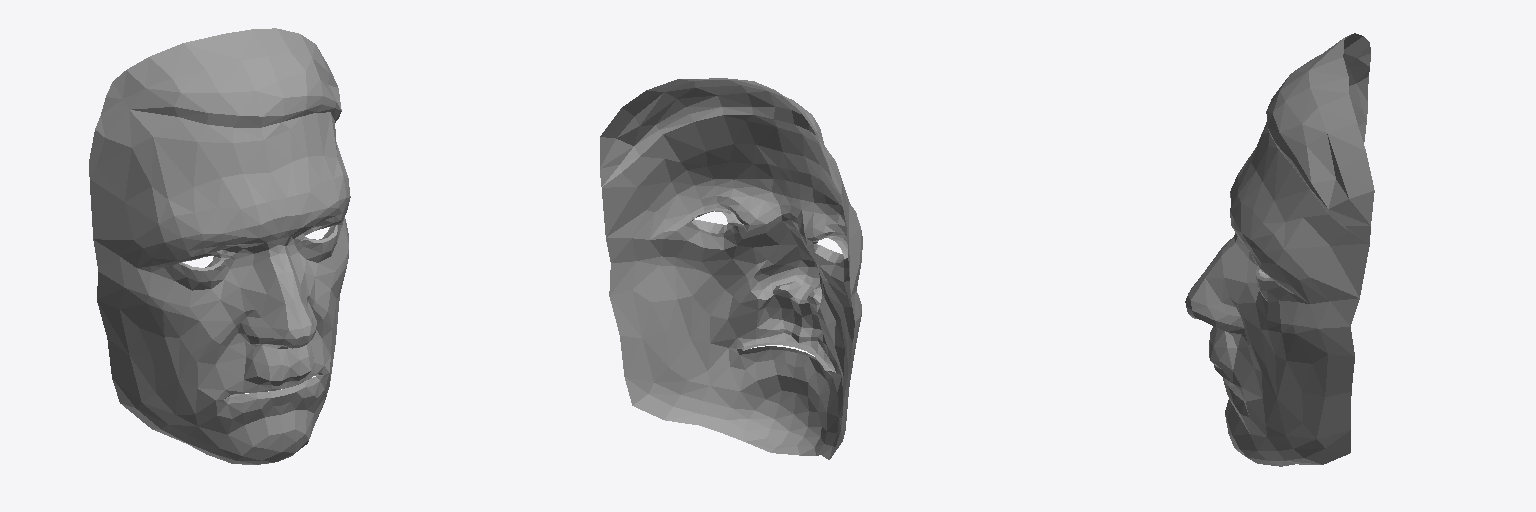
Rendered from hitlerProto.obj.
3 renders of one model, left to right at view 1: azimuth 30°, elevation 25°; view 2: azimuth 150°, elevation 25°; view 3: azimuth 270°, elevation 25°, orthographic.
Parts seen in each view (by area): view 1: cara_mesh002; view 2: cara_mesh002; view 3: cara_mesh002.
Part boxes in pixels (x1,y1,x2,y2): cara_mesh002: (89,28,350,464); cara_mesh002: (600,78,862,459); cara_mesh002: (1185,33,1374,466).
Size of the model in its own units: 0.1489 by 0.2303 by 0.0993.